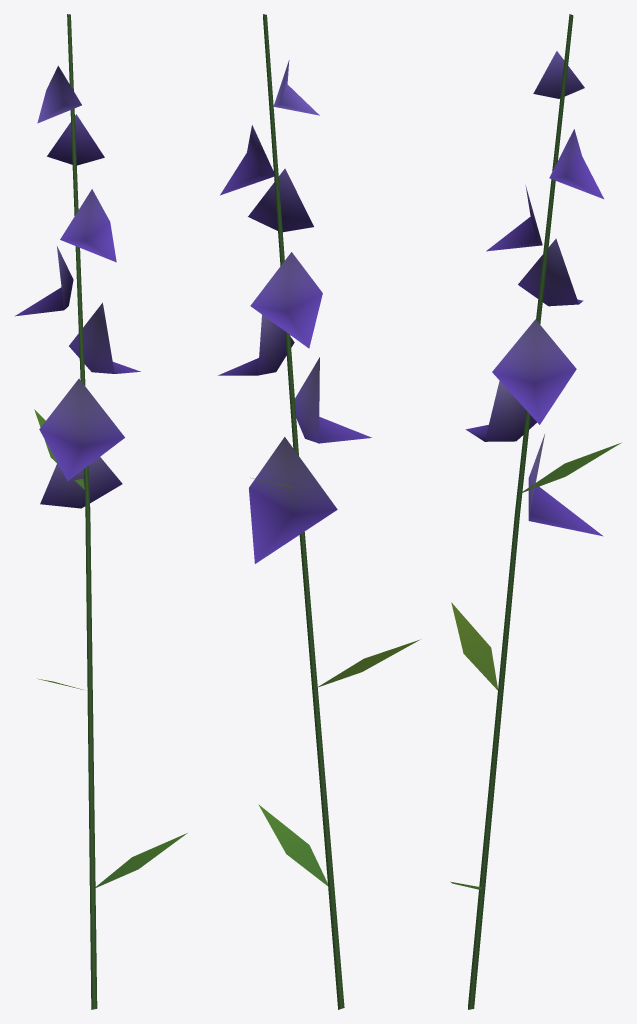
Rendered from flower-lupine-a.lod2.glb.
3 views of the same model, side by side, from view 1: azimuth 30°, elevation 25°; view 2: azimuth 150°, elevation 25°; view 3: azimuth 270°, elevation 25° (orthographic). The views are drawn at different scales.
Visible parts, largest first — view 1: flower-lupine-a.lod2; view 2: flower-lupine-a.lod2; view 3: flower-lupine-a.lod2.
Part boxes in pixels (<box>): flower-lupine-a.lod2: <box>15,14,187,1009</box>; flower-lupine-a.lod2: <box>218,14,420,1009</box>; flower-lupine-a.lod2: <box>450,14,621,1009</box>.
Bounding box in the file's own units: 0.124 × 0.7406 × 0.1152.
